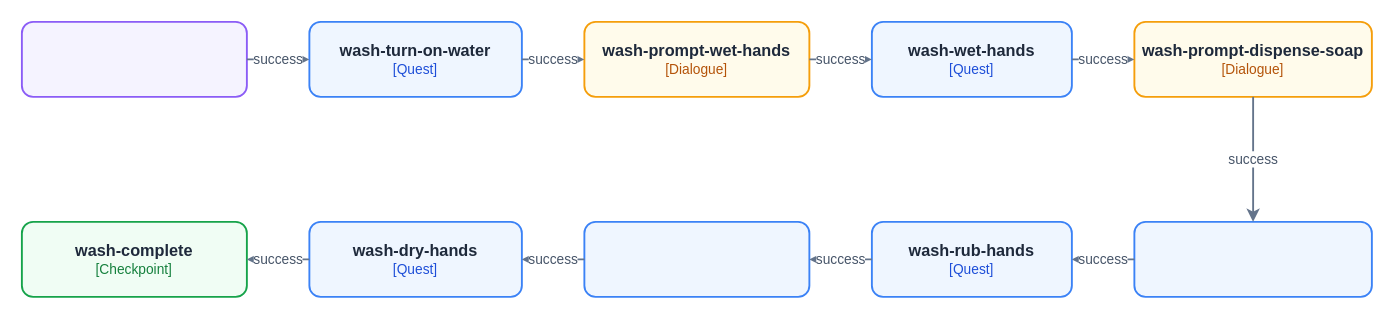
The diagram is 1395 pixels wide and 320 high, and some of its shapes have lost their labels. The shapes that lost their labels are listed below. From the top down, each one's centre as x and y in pixels, then its label:
point (133, 58): wash-tutorial-timeline [Timeline]
point (696, 258): wash-turn-off-water [Quest]
point (1252, 258): wash-dispense-soap [Quest]
